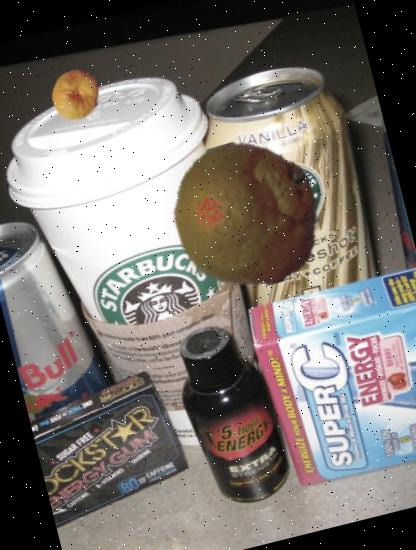Mandarine: (157, 126, 336, 305), (45, 64, 108, 127)
